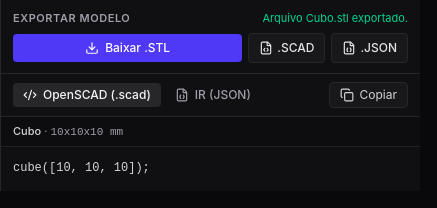
Test: ParamPanel e InspectorPanel (M3) › alterna abas WAI-ARIA (ArrowRight/ArrowLeft/Home/End) e exporta STL/SCAD/JSON
This screenshot has width=437, height=208.
Earlier steps of the test are not shown.
expect the message with test id "export-status" reads "Arquivo Cubo.stl exportado.": met, box [262,11,408,25]
Click the button with test id "export-scad": click(287, 48) [248,32,325,62]
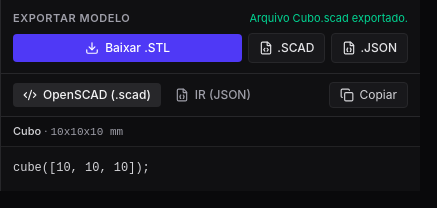
expect the message with test id "export-status" reads "Arquivo Cubo.scad exportado.": met, box [250,11,408,25]
Click the button with test id "export-json": click(370, 48) [331,32,408,62]
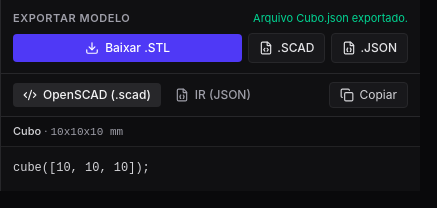
expect the message with test id "export-status" reads "Arquivo Cubo.json exportado.": met, box [253,11,408,25]
Press ArrowRight in the tab with test id "tab-scad", box [13,82,161,106]
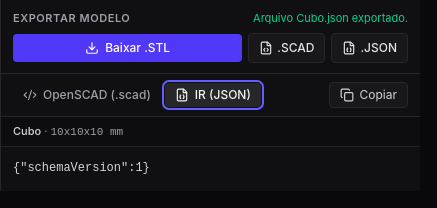
expect the tab with test id "tab-ir" is selected: met
Press ArrowLeft in the tab with test id "tab-ir", box [165,82,261,106]
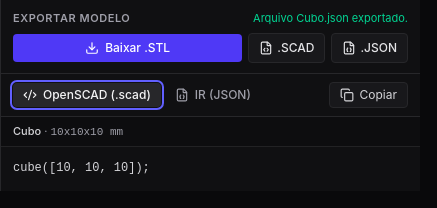
expect the tab with test id "tab-scad" is selected: met
Press End in the tab with test id "tab-scad", box [13,82,161,106]
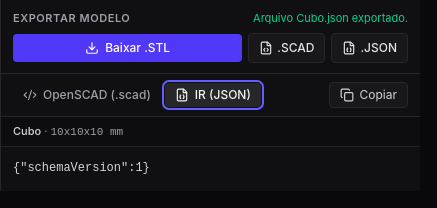
expect the tab with test id "tab-ir" is selected: met
Press Home in the tab with test id "tab-ir", box [165,82,261,106]
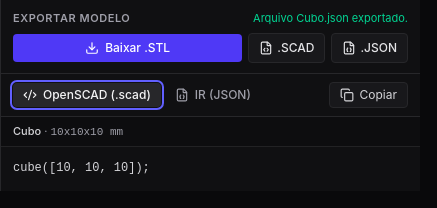
expect the tab with test id "tab-scad" is selected: met, box [13,82,161,106]
